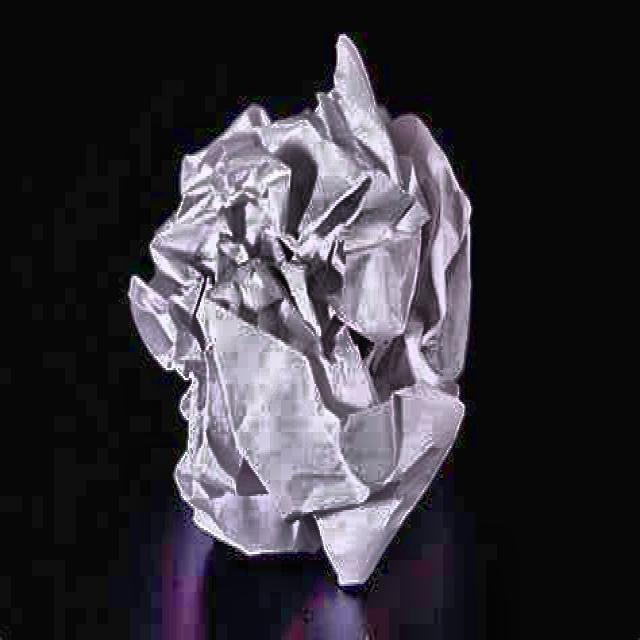Paper: (127, 26, 485, 602)
